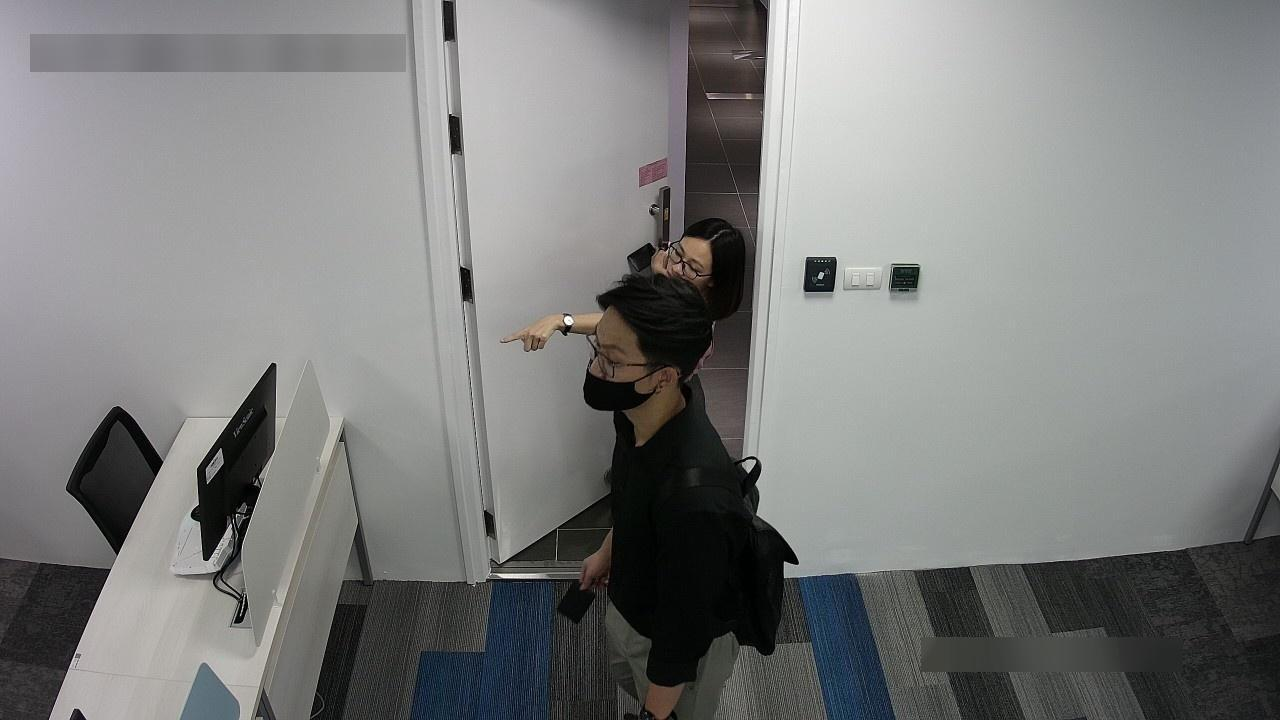mask: (574, 304, 662, 411)
no_apron: (493, 307, 585, 369), (571, 528, 625, 606)
no_gloves: (592, 278, 739, 391), (652, 197, 758, 317)
no_hairnet: (652, 228, 714, 289)
